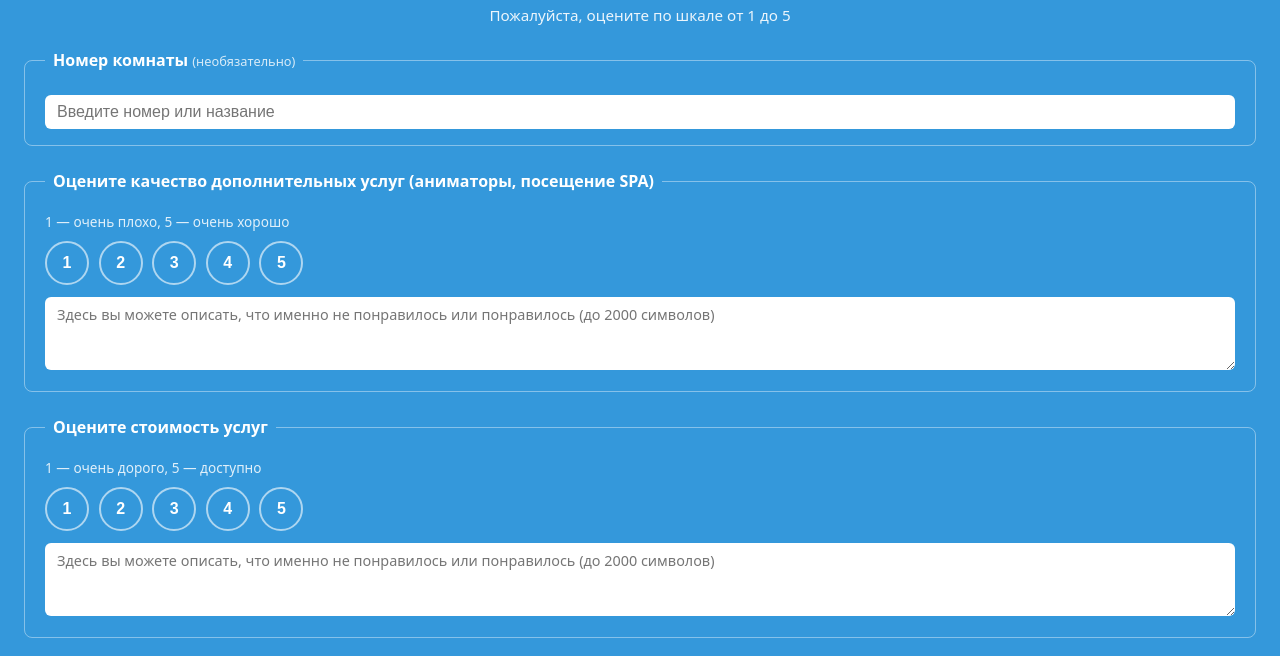
Scenario: SurveyForm — кнопки рейтинга › кнопка «Отправить» становится доступной после заполнения всех обязательных вопросов
Check: the text "Пожалуйста, оцените по шкале от 1 до 5" is shown, box [489, 5, 791, 25]
Click the button named "Оценка 4".
click(228, 263)  # box [206, 241, 250, 285]
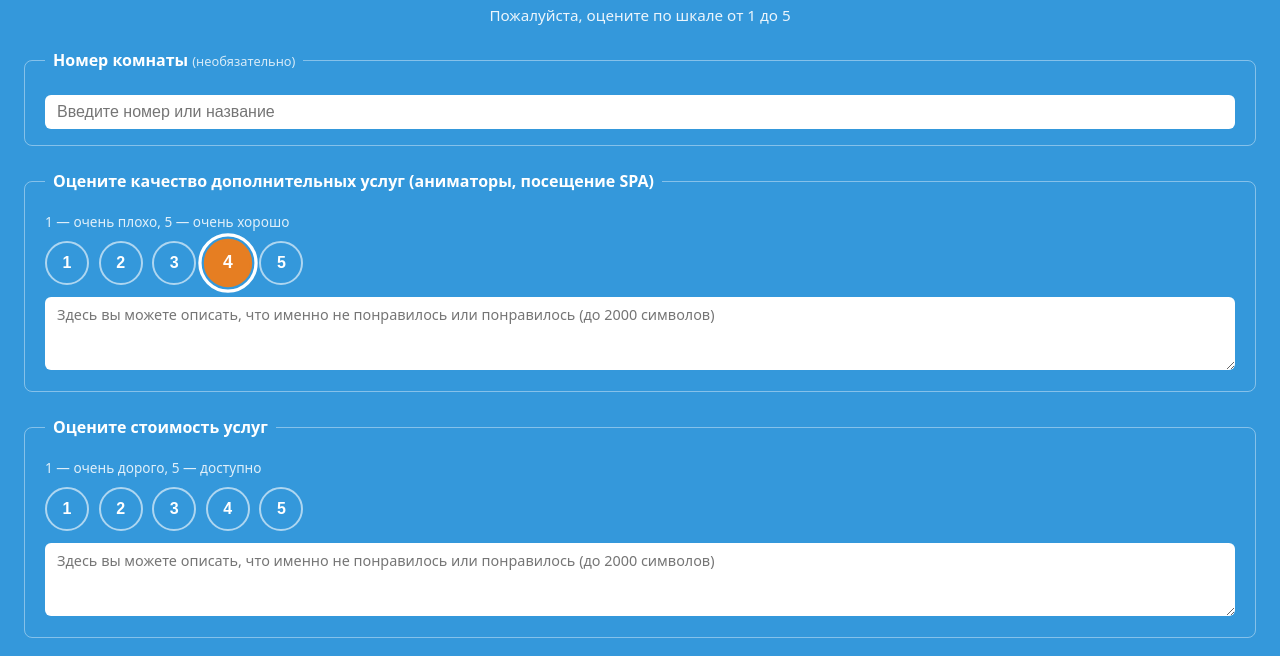
Click the button named "Оценка 4".
click(228, 509)  # box [206, 487, 250, 531]
(page scrolled)
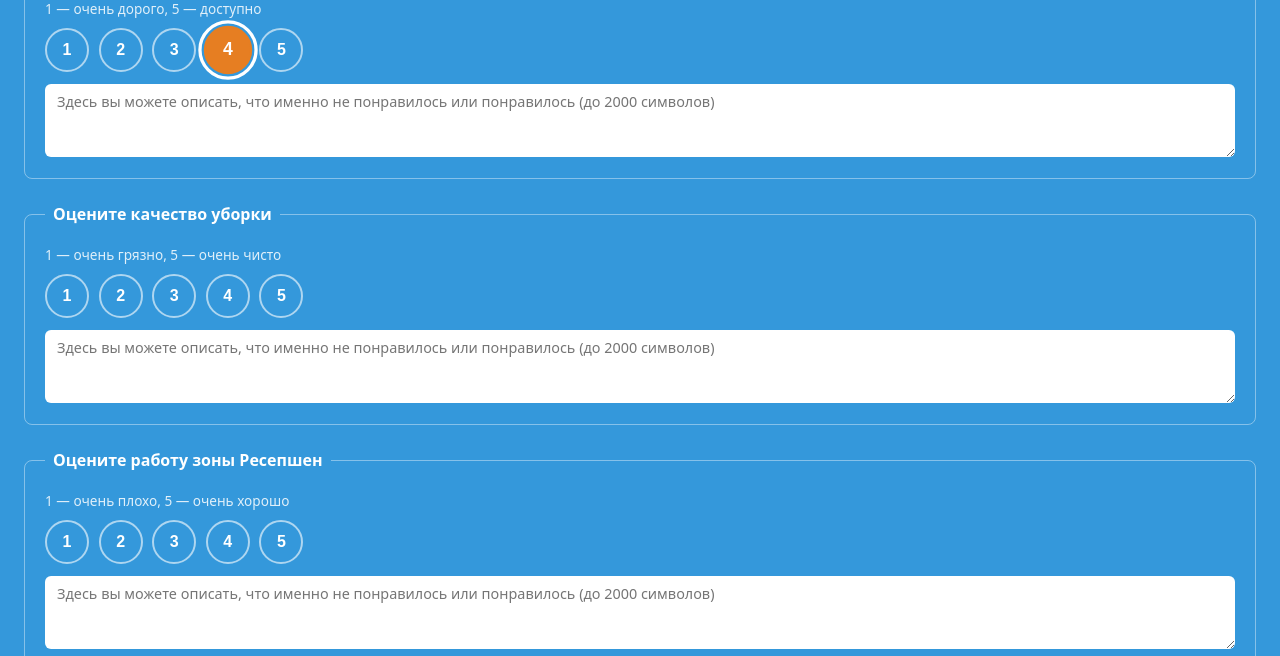
Click the button named "Оценка 4".
click(228, 296)  # box [206, 274, 250, 318]
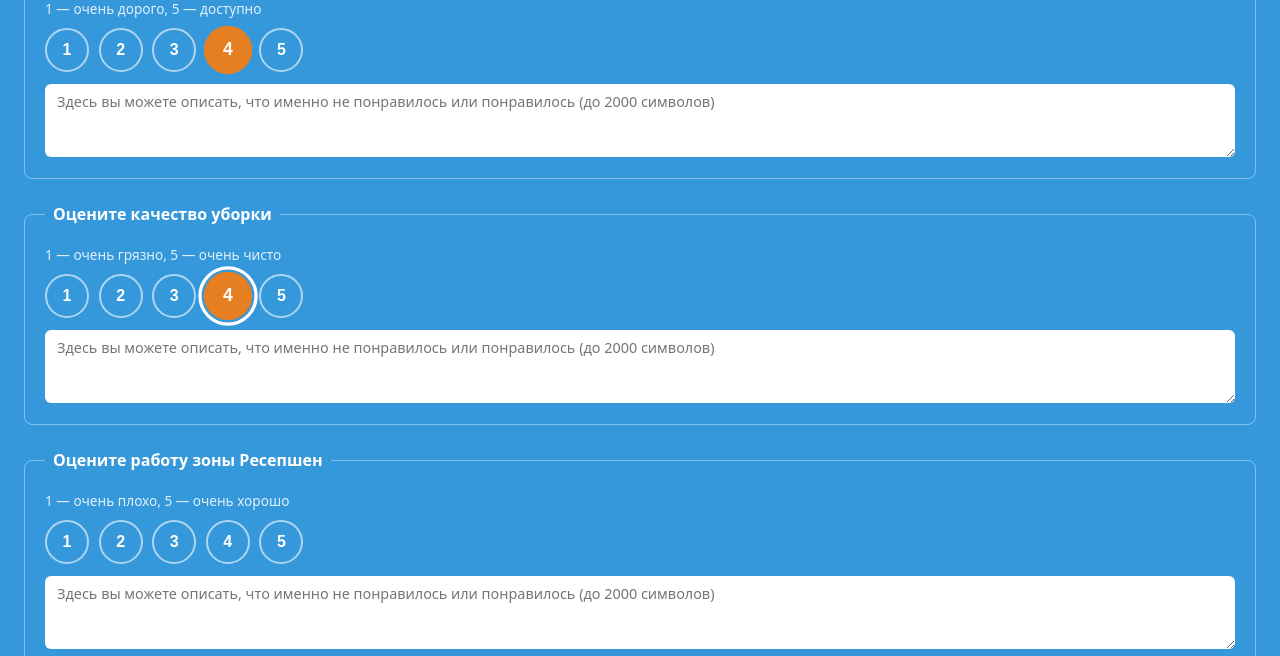
Click the button named "Оценка 4".
click(228, 542)  # box [206, 520, 250, 564]
(page scrolled)
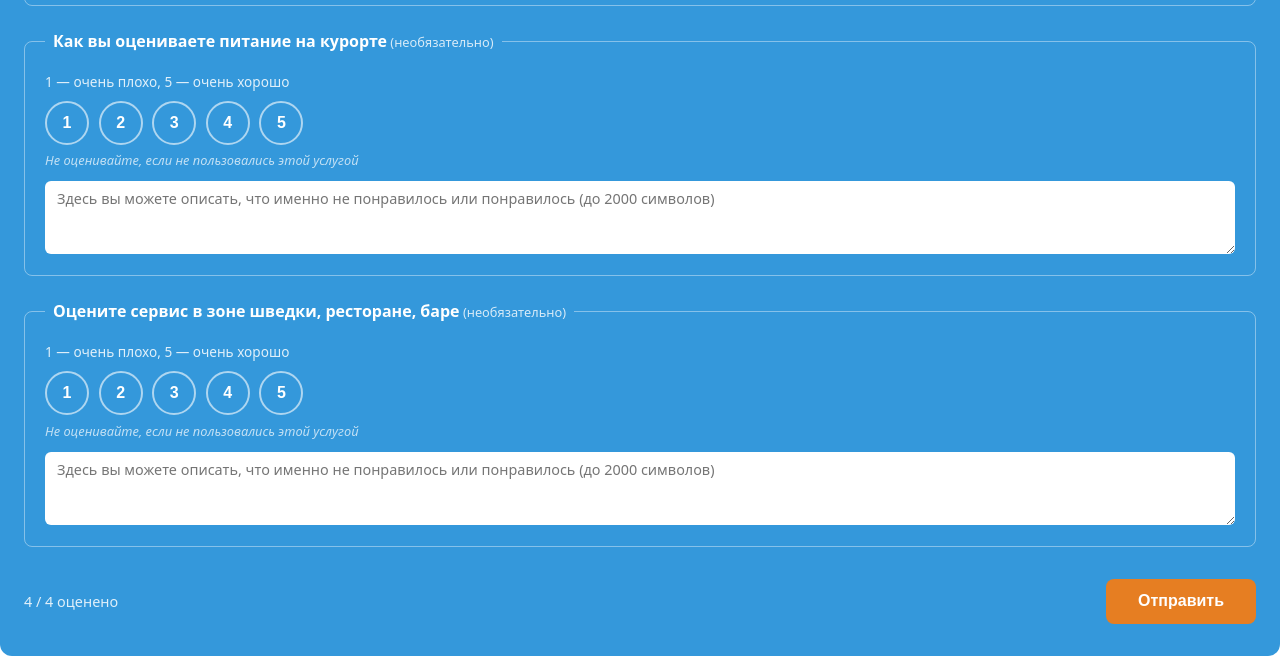
Check: the button "Отправить" is enabled, box [1106, 579, 1256, 624]
